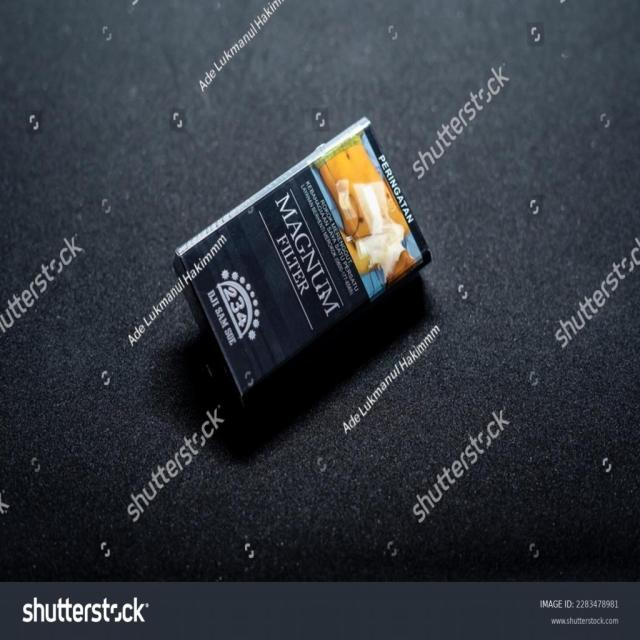smoking: (138, 113, 463, 414)
